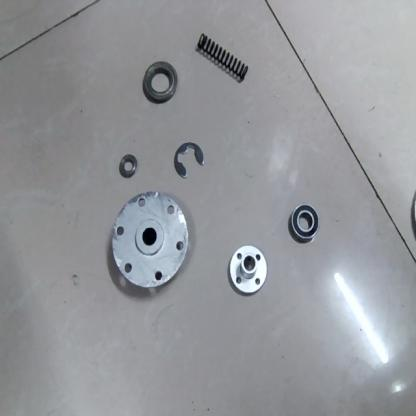FOD: (110, 190, 188, 292), (195, 32, 250, 82), (228, 245, 270, 296), (141, 56, 179, 107), (173, 143, 207, 179), (289, 204, 320, 242), (118, 152, 138, 176)
